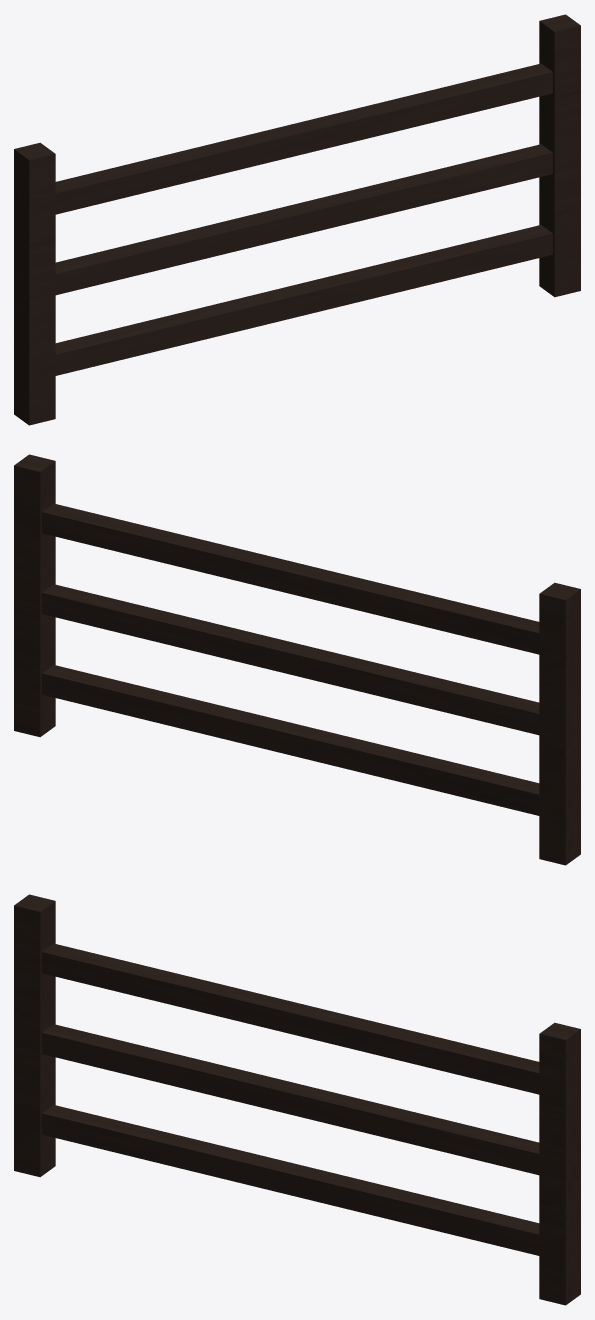
File: prop-fence.fbx
3 renders of one model, top to bottom at view 1: azimuth 30°, elevation 25°; view 2: azimuth 150°, elevation 25°; view 3: azimuth 330°, elevation 25°, orthographic.
Visible parts, largest first — view 1: Cube.020; view 2: Cube.020; view 3: Cube.020.
Part boxes in pixels (x1,y1,x2,y2): Cube.020: (14,14,580,425); Cube.020: (14,454,580,865); Cube.020: (14,894,580,1305).
Size of the model in its own units: 165 by 75.85 by 7.88.
